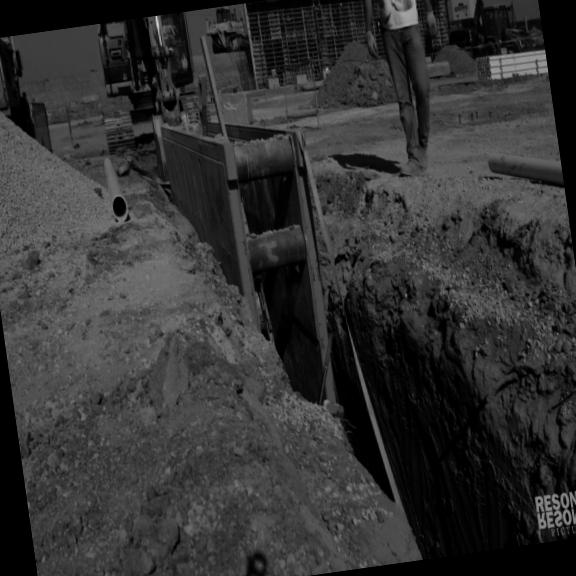safety_vest: (371, 0, 419, 26)
